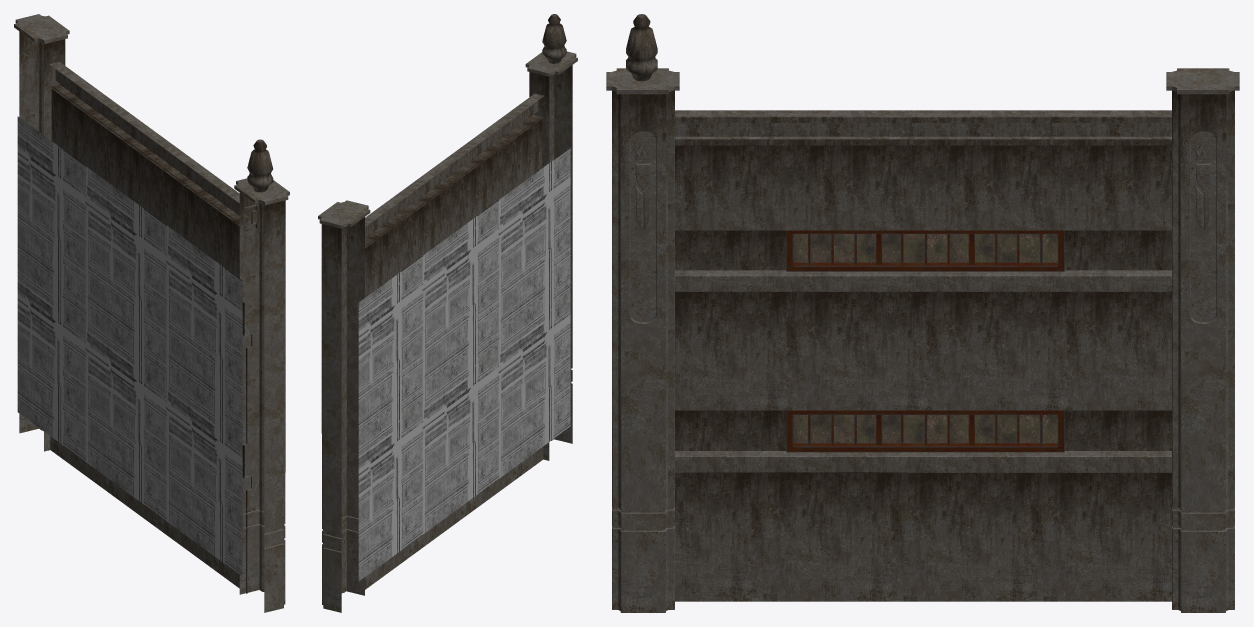
Rendered from WallLeft.fbx.
3 views of the same model, side by side, from view 1: azimuth 30°, elevation 25°; view 2: azimuth 150°, elevation 25°; view 3: azimuth 270°, elevation 25° (orthographic). The views are drawn at different scales.
Visible parts, largest first — view 1: SM_WAL_EscapeFacade01_FarWallLeft.mo; view 2: SM_WAL_EscapeFacade01_FarWallLeft.mo; view 3: SM_WAL_EscapeFacade01_FarWallLeft.mo.
Part boxes in pixels (x1=…): SM_WAL_EscapeFacade01_FarWallLeft.mo: x1=14, y1=14, x2=289, y2=612; SM_WAL_EscapeFacade01_FarWallLeft.mo: x1=318, y1=14, x2=577, y2=612; SM_WAL_EscapeFacade01_FarWallLeft.mo: x1=606, y1=14, x2=1239, y2=612.
Size of the model in its own units: 118 by 1395 by 1365.
